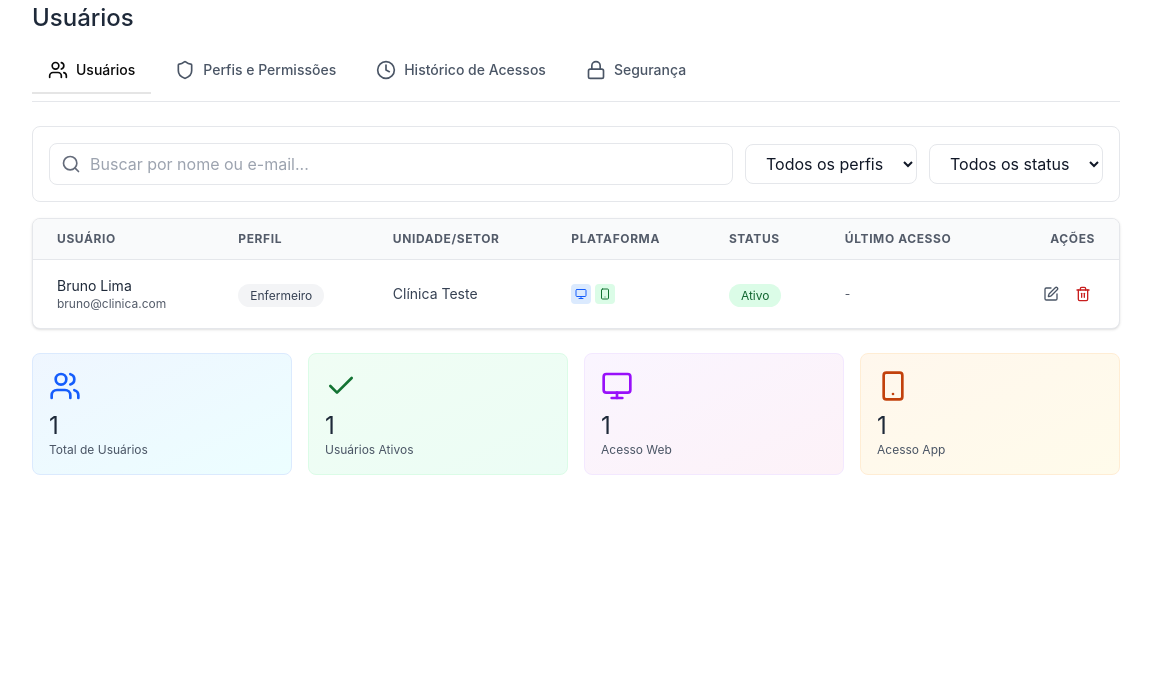
Test case: Usuários: auditoria das mudanças › a API recusar salvar a permissão: avisa e desfaz a chave na tela
Click the button "Perfis e Permissões": coordinates (256, 71) [159,48,352,94]
(page scrolled)
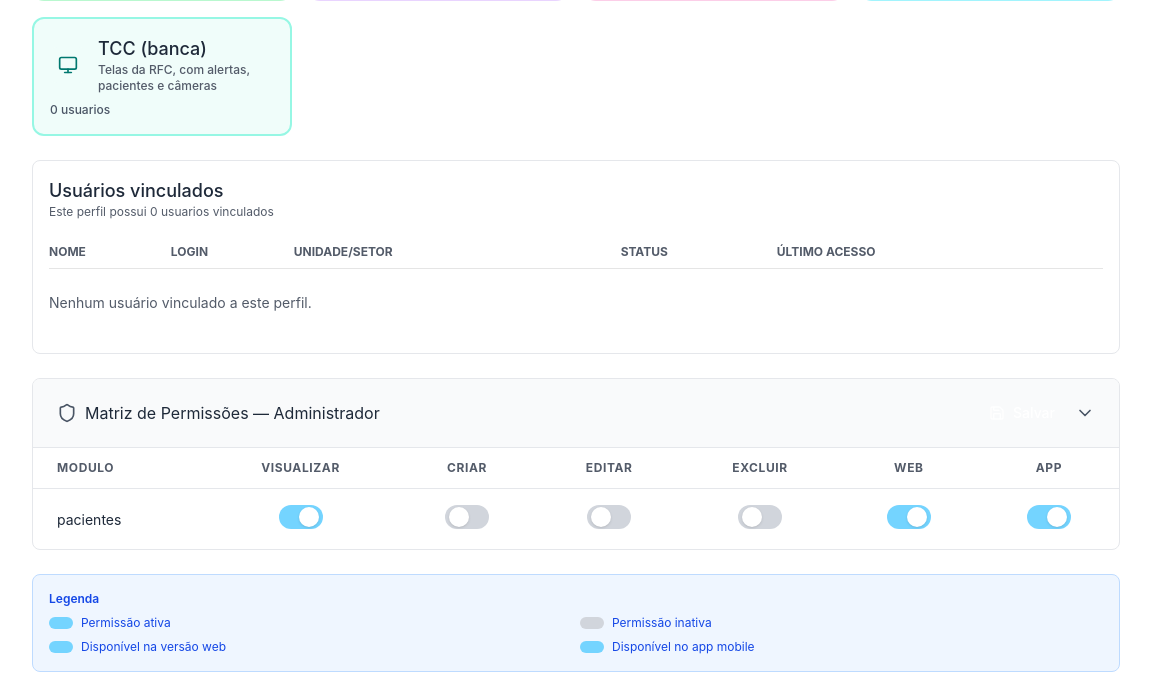
Click the button titled "Criar: negado": coordinates (467, 517) [445,505,489,529]
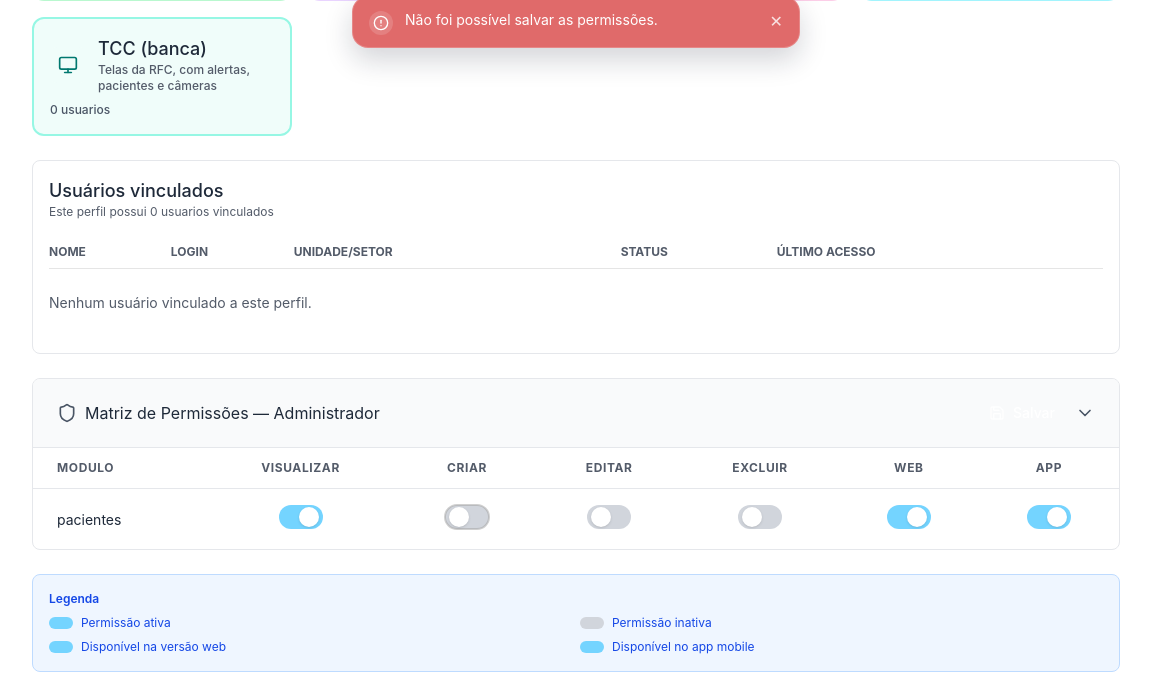
Expected: the button titled "Criar: negado" is shown, [445,505,489,529]
Expected: the text "Não foi possível salvar as permissões." is shown, [405,11,658,28]
